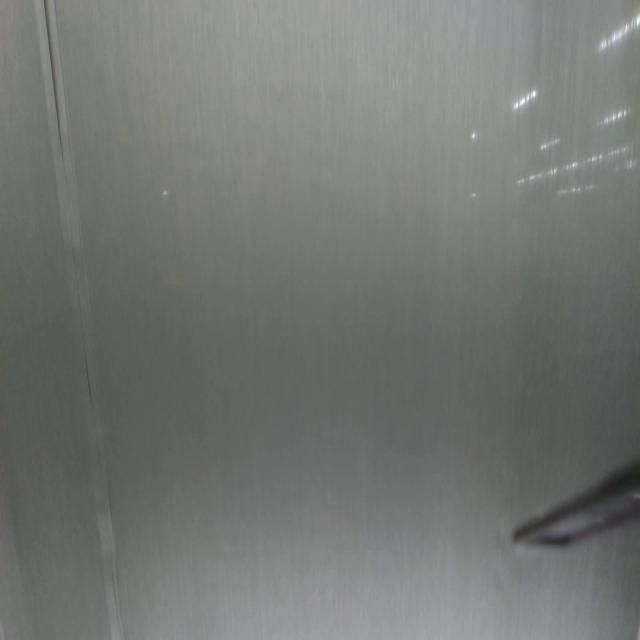crease: (35, 1, 127, 638)
